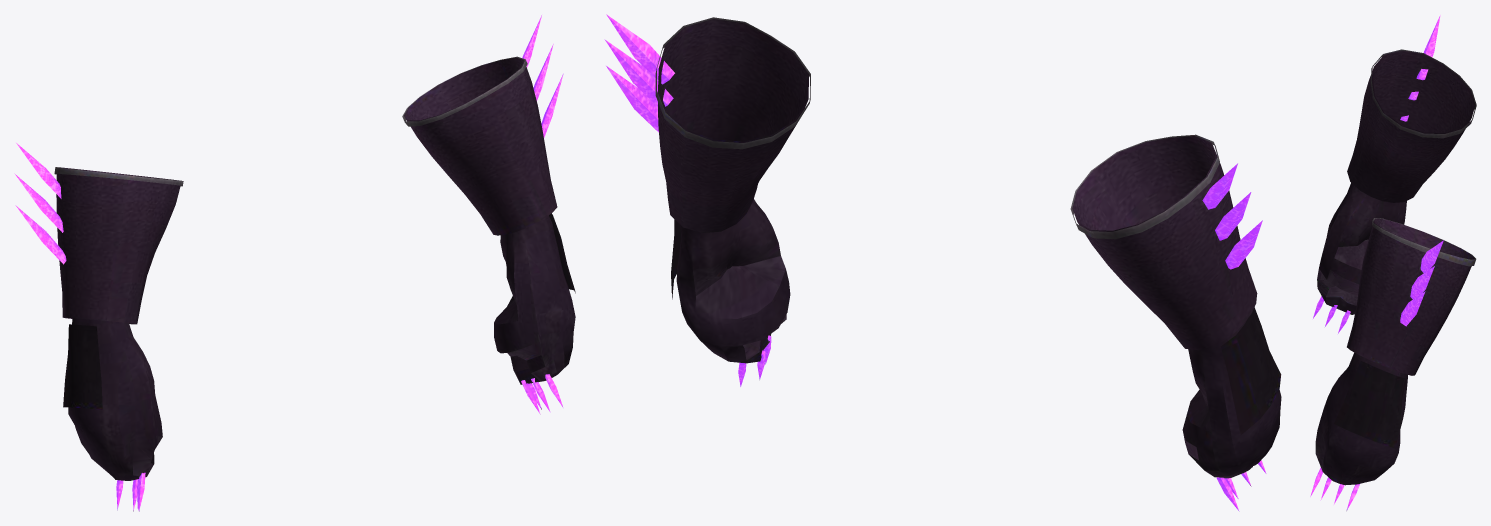
File: Luvas_de_Couro_nivel100.glb
3 renders of one model, left to right at view 1: azimuth 30°, elevation 25°; view 2: azimuth 150°, elevation 25°; view 3: azimuth 270°, elevation 25°, orthographic. The views are drawn at different scales.
Visible parts, largest first — view 1: luvas_de_couro_nivel100; view 2: luvas_de_couro_nivel100; view 3: luvas_de_couro_nivel100.
Boxes of the visible parts, left/top/right/bottom form: luvas_de_couro_nivel100: left=14, top=15, right=575, bottom=511; luvas_de_couro_nivel100: left=604, top=14, right=1281, bottom=511; luvas_de_couro_nivel100: left=1310, top=15, right=1476, bottom=510.
Bounding box in the file's own units: 0.7467 × 0.446 × 0.226.
Materials: 1 (1 with a texture image).
